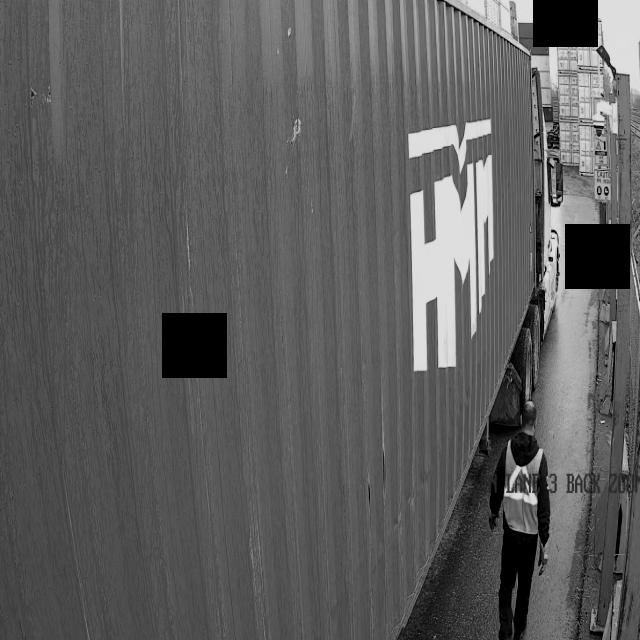container_company_logo: (371, 91, 547, 391)
driver: (489, 401, 550, 640)
truck_with_container: (0, 0, 550, 640)
